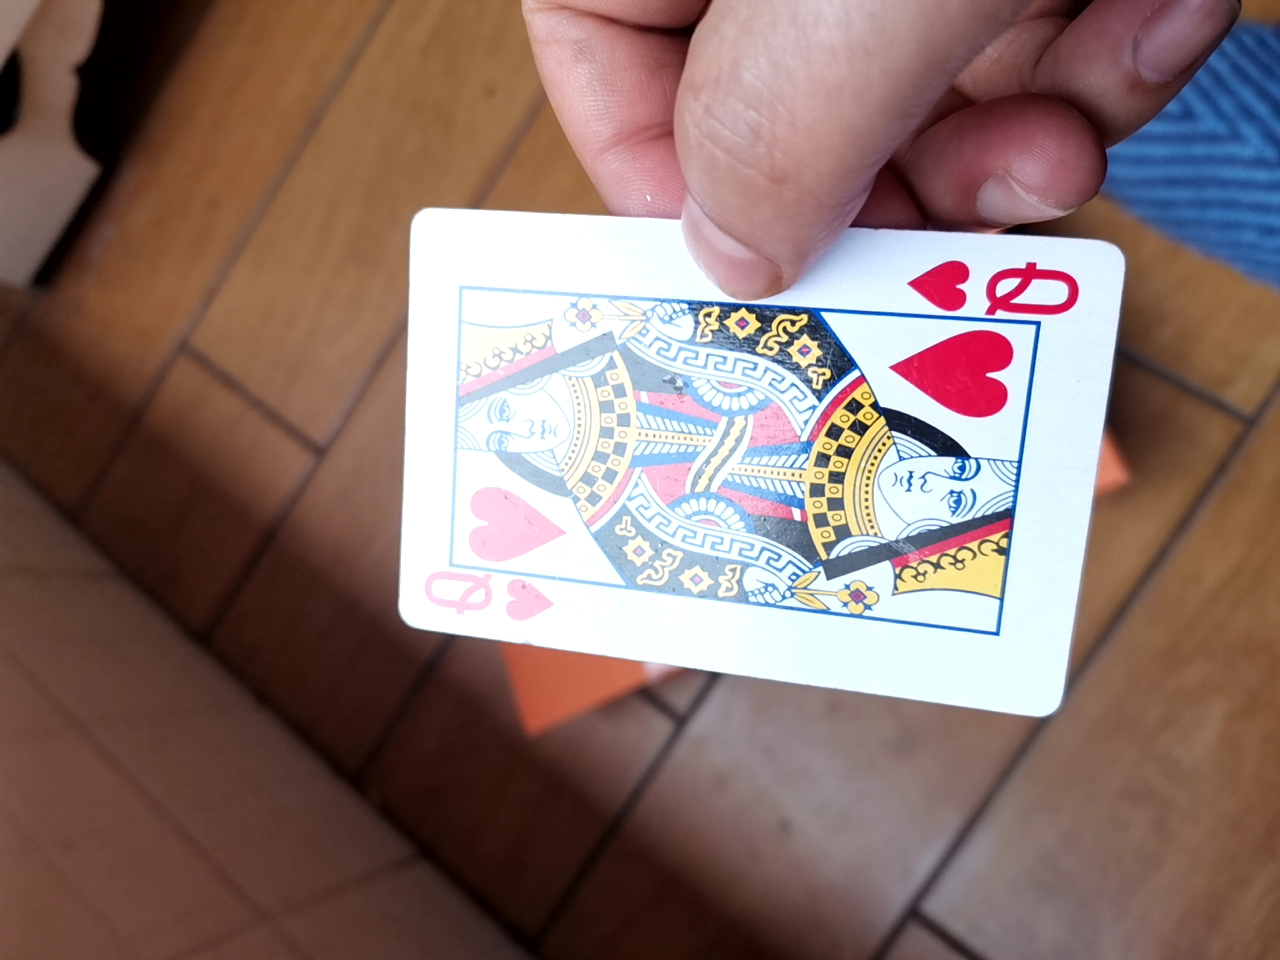hx q: (367, 209, 1123, 729)
